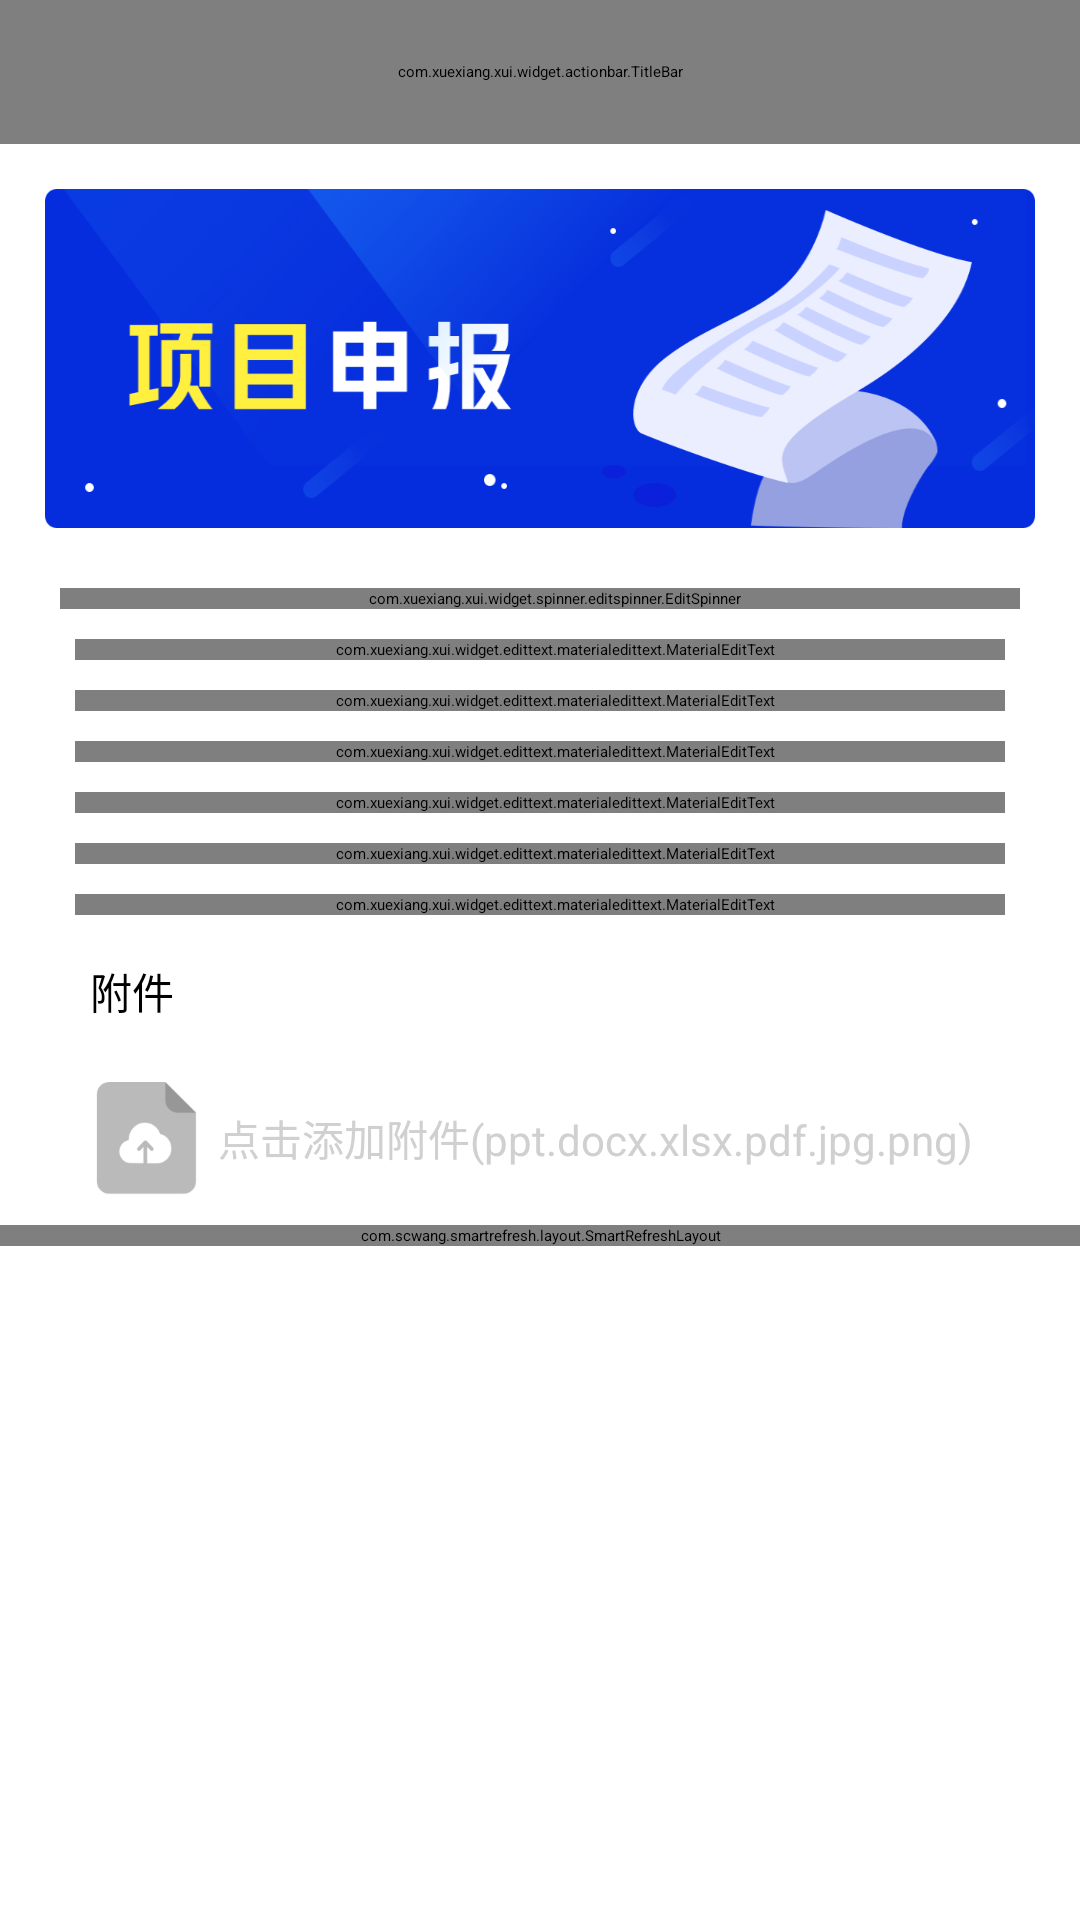

Screen size 1080*1920. Icon name, then its center in pixels as (x=x, y=y):
project shenbao upload: (x=146, y=1138)
